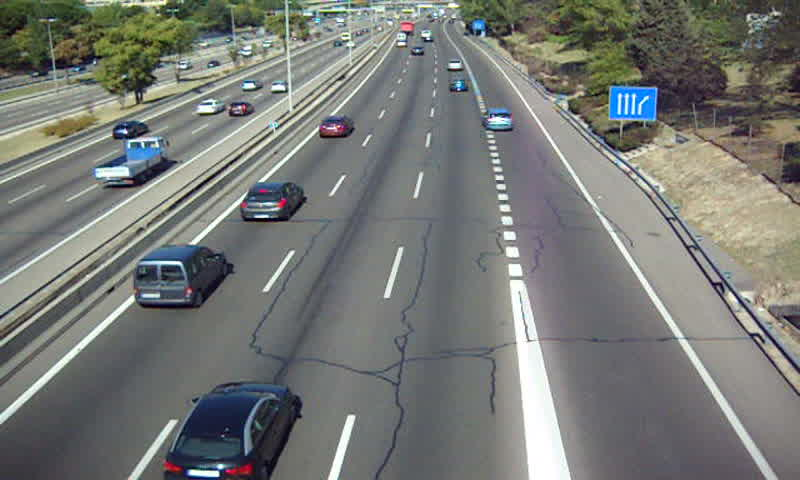car: (162, 383, 294, 480), (240, 183, 304, 219), (318, 116, 354, 137), (483, 107, 515, 130), (447, 77, 468, 92), (446, 58, 464, 70)
van: (133, 246, 228, 305)
